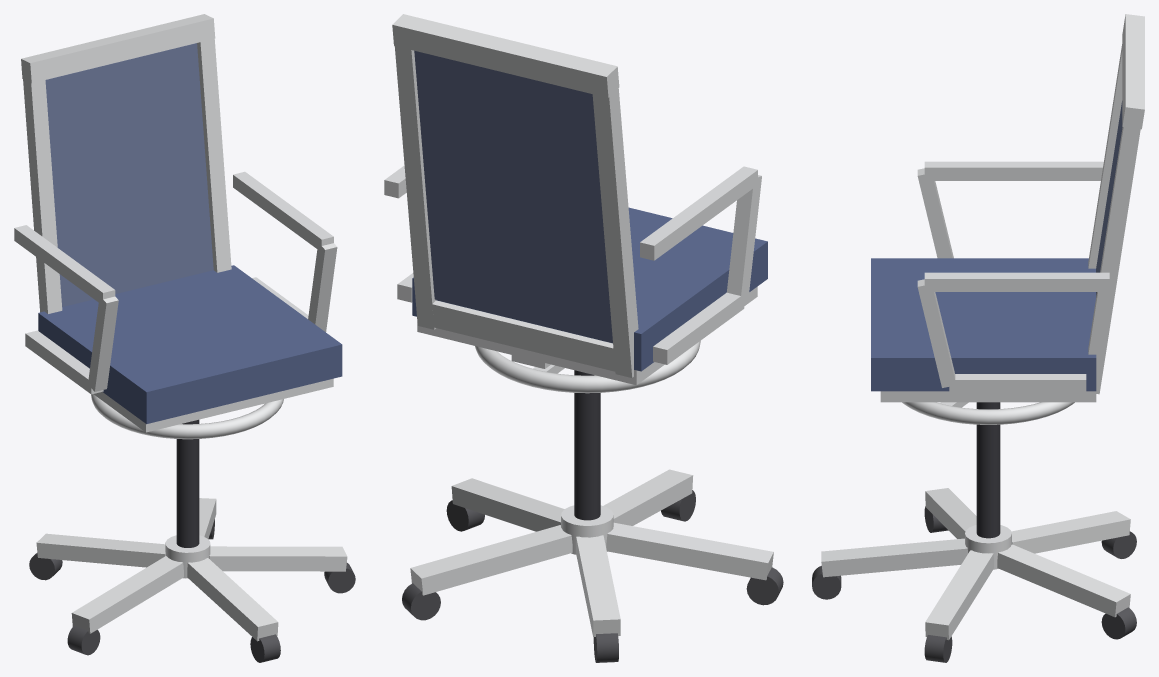
The model's file is assembly.glb.
3 views of the same model, side by side, from view 1: azimuth 30°, elevation 25°; view 2: azimuth 150°, elevation 25°; view 3: azimuth 270°, elevation 25° (orthographic). The views are drawn at different scales.
Visible parts, largest first — view 1: back_mesh, seat_cushion, back_frame_top, back_frame_right, back_frame_left, base_arm_5, base_arm_2, base_arm_3, base_arm_1, gas_lift, foot_ring, arm_r_top (+11 smaller); view 2: back_mesh, seat_cushion, back_frame_top, back_frame_right, back_frame_left, back_frame_bottom, base_arm_2, base_arm_4, gas_lift, foot_ring, arm_r_top, base_arm_5 (+11 smaller); view 3: seat_cushion, back_frame_left, base_arm_1, base_arm_4, arm_l_top, arm_r_top, base_arm_3, gas_lift, base_arm_5, arm_l_lower, back_frame_top, foot_ring (+11 smaller).
Part boxes in pixels (box(x1,y1,x2,y2)): back_mesh: box(45, 43, 213, 306); seat_cushion: box(38, 265, 342, 424); back_frame_top: box(21, 14, 215, 83); back_frame_right: box(22, 71, 62, 313); back_frame_left: box(197, 39, 231, 272); base_arm_5: box(209, 546, 347, 571); base_arm_2: box(71, 556, 183, 633); base_arm_3: box(36, 533, 165, 567); base_arm_1: box(187, 558, 278, 641); gas_lift: box(176, 419, 199, 547); foot_ring: box(91, 394, 283, 439); arm_r_top: box(14, 225, 115, 305); back_mesh: box(414, 50, 612, 342); seat_cushion: box(412, 207, 767, 371); back_frame_top: box(392, 14, 619, 97); back_frame_right: box(592, 80, 638, 377); back_frame_left: box(394, 46, 436, 329); back_frame_bottom: box(432, 300, 615, 371); base_arm_2: box(606, 522, 773, 580); base_arm_4: box(410, 525, 572, 595); gas_lift: box(574, 370, 600, 520); foot_ring: box(475, 341, 700, 393); arm_r_top: box(640, 166, 757, 260); base_arm_5: box(451, 478, 564, 531); seat_cushion: box(871, 258, 1096, 391); back_frame_left: box(1088, 119, 1141, 394); base_arm_1: box(821, 538, 968, 577); base_arm_4: box(997, 544, 1130, 617); arm_l_top: box(924, 272, 1109, 291); arm_r_top: box(924, 161, 1103, 180); base_arm_3: box(1011, 511, 1130, 553); gas_lift: box(976, 402, 1000, 538); base_arm_5: box(925, 550, 993, 640); arm_l_lower: box(949, 374, 1086, 393); back_frame_top: box(1122, 14, 1144, 129); foot_ring: box(902, 402, 1074, 424).
Bounding box in the file's own units: 0.697 × 1.2 × 0.6793.
